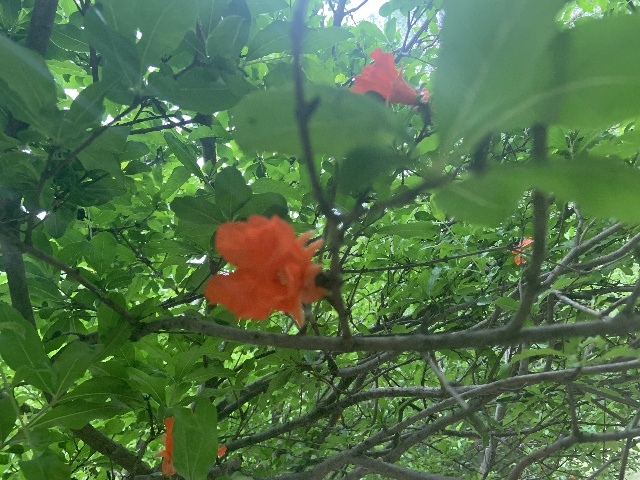flower: (204, 212, 328, 329), (155, 409, 227, 476), (347, 47, 416, 105), (510, 236, 533, 265)
